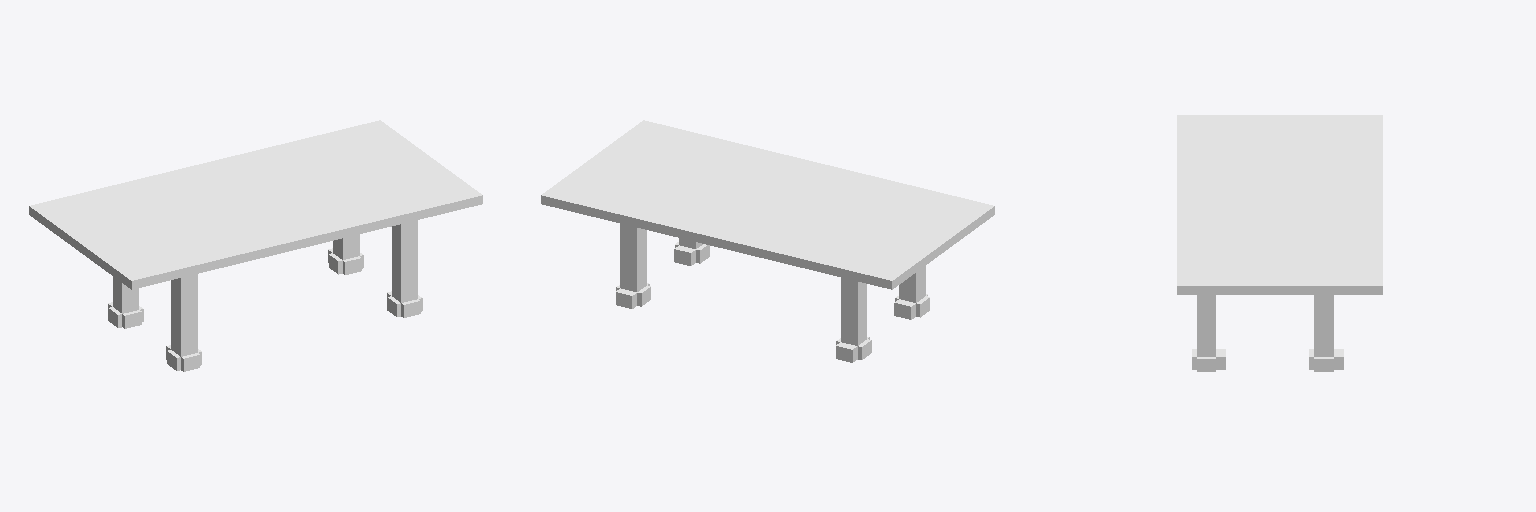
Rendered from Table_01-1.obj.
3 renders of one model, left to right at view 1: azimuth 30°, elevation 25°; view 2: azimuth 150°, elevation 25°; view 3: azimuth 270°, elevation 25°, orthographic.
Visible parts, largest first — view 1: Table_01-1; view 2: Table_01-1; view 3: Table_01-1.
Part boxes in pixels (bbox=[...]): Table_01-1: bbox=[29, 120, 482, 371]; Table_01-1: bbox=[541, 120, 994, 362]; Table_01-1: bbox=[1177, 115, 1382, 371].
Size of the model in its own units: 83 by 25 by 42.